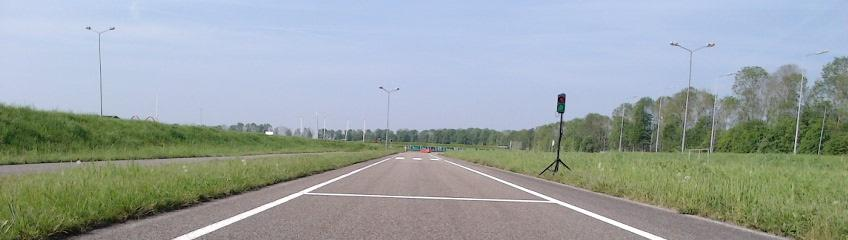TrafficLight-green: (557, 94, 566, 113)
